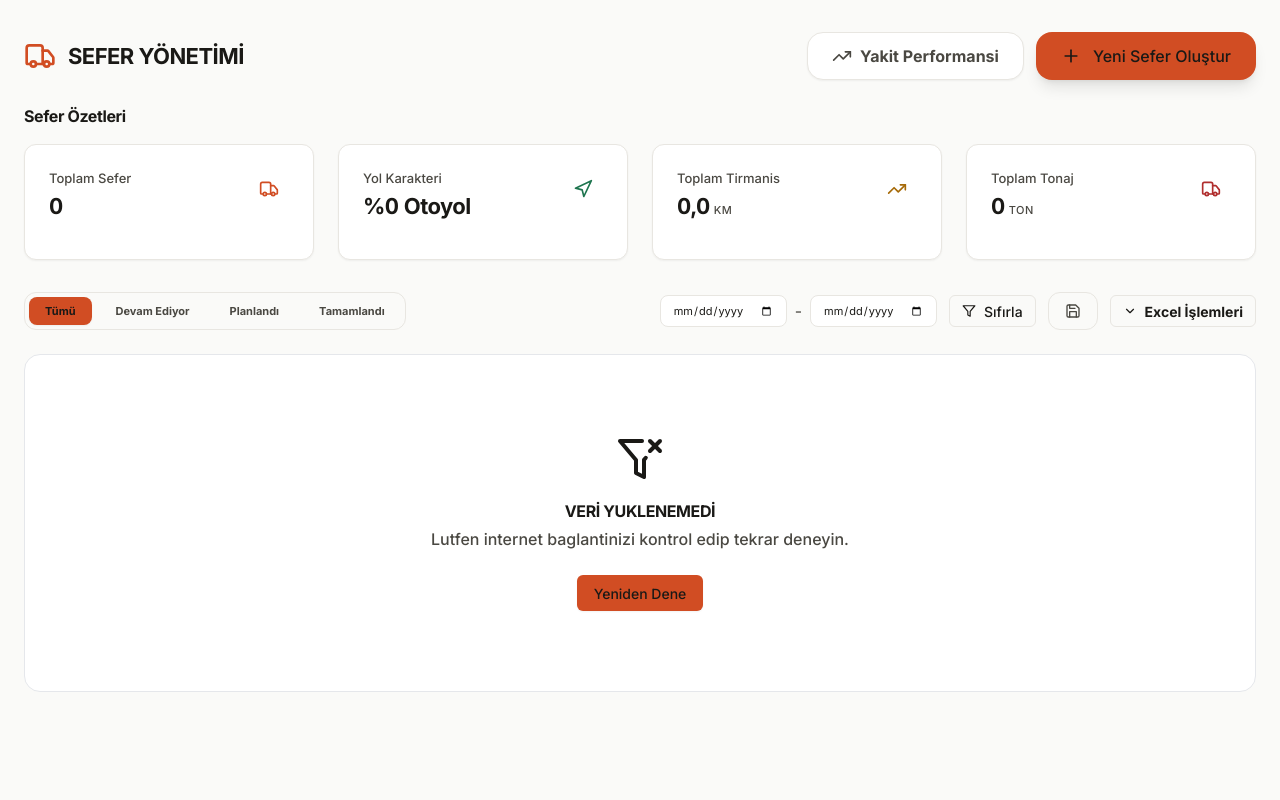
Scenario: TripsModule Resilience Tests › recovers from error when "Yeniden Dene" is clicked
expect the heading "Veri Yuklenemedi" is shown: met, box [565,499,715,523]
Click the button "Yeniden Dene": (640, 593) [577,575,703,611]
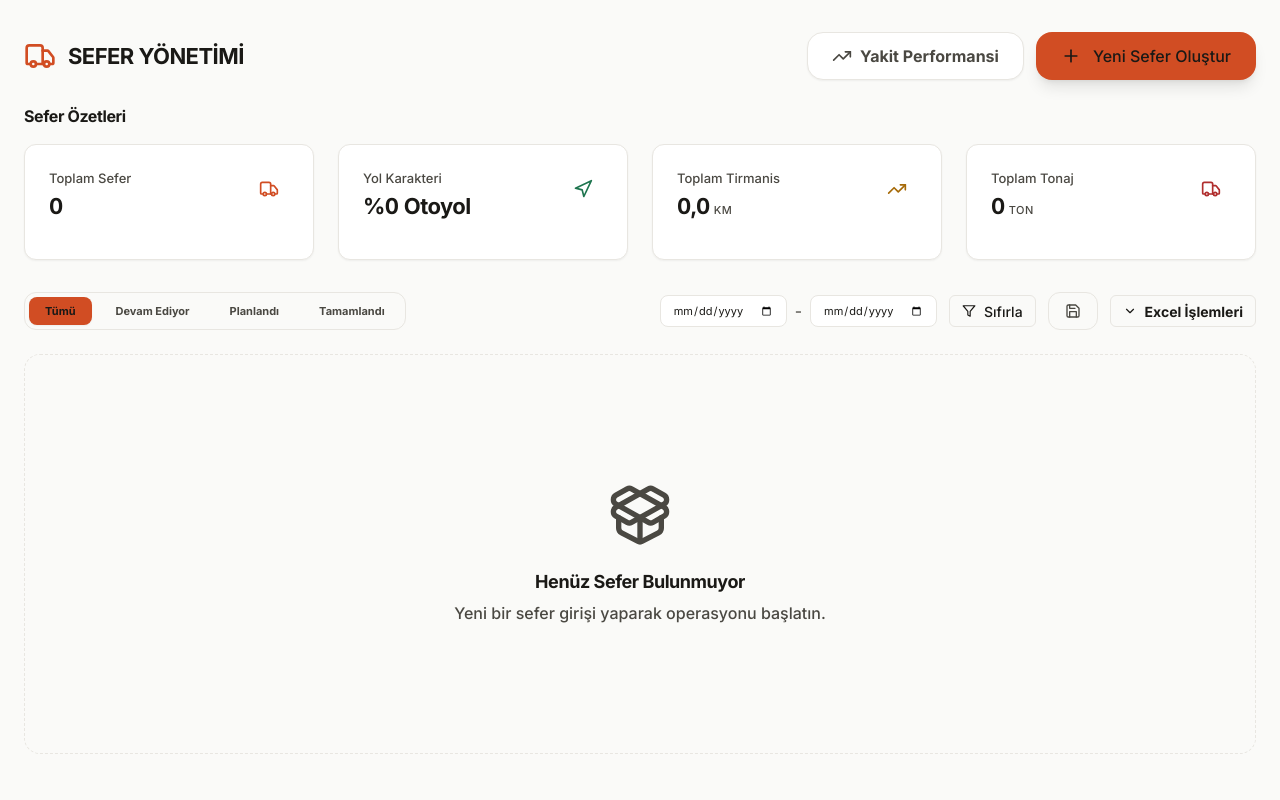
expect the heading "Henüz Sefer Bulunmuyor" is shown: met, box [535,571,745,593]
